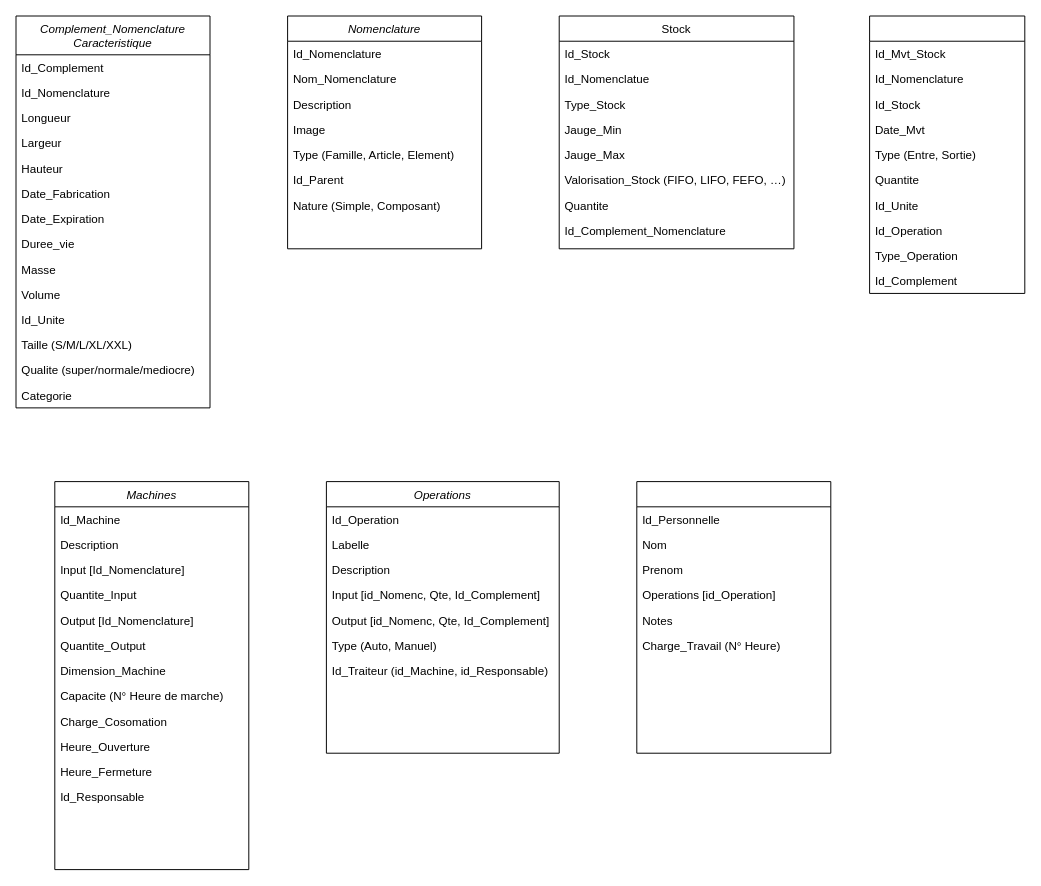
The diagram is 1041 pixels wide and 886 high, and some of its shapes have lost their labels. Each missing label, with the box of its shape:
Mouvement_Stock: (869, 15, 1025, 293)
Personnelles: (636, 481, 831, 753)
